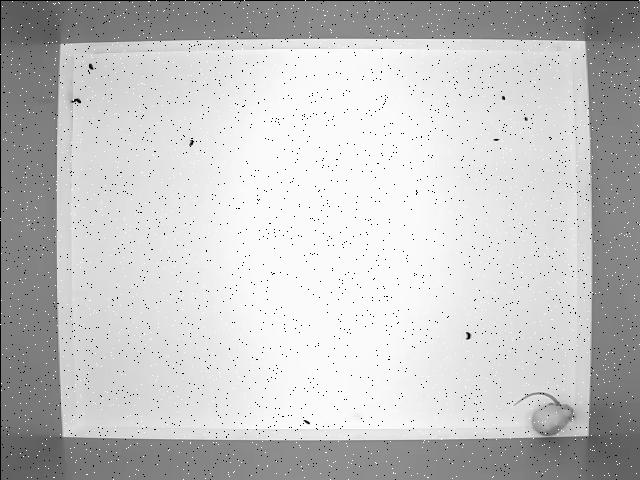Tikus: (512, 390, 576, 436)
